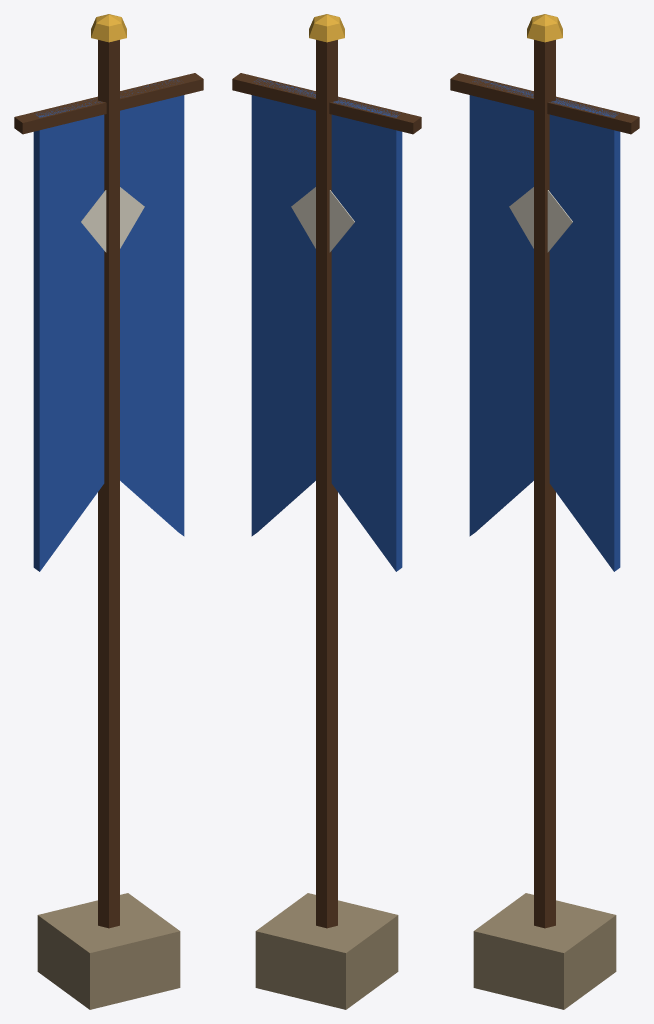
File: Banner_Pole.fbx
The picture shows the model from 3 angles, left to right: view 1: azimuth 30°, elevation 25°; view 2: azimuth 150°, elevation 25°; view 3: azimuth 330°, elevation 25°; orthographic projection.
Parts seen in each view (by area): view 1: Banner_Pole; view 2: Banner_Pole; view 3: Banner_Pole.
Part boxes in pixels (left/top/right/bottom): Banner_Pole: left=14, top=14, right=203, bottom=1009; Banner_Pole: left=232, top=14, right=421, bottom=1009; Banner_Pole: left=450, top=14, right=639, bottom=1009.
Bounding box in the file's own units: 1 × 5.1 × 0.5.
